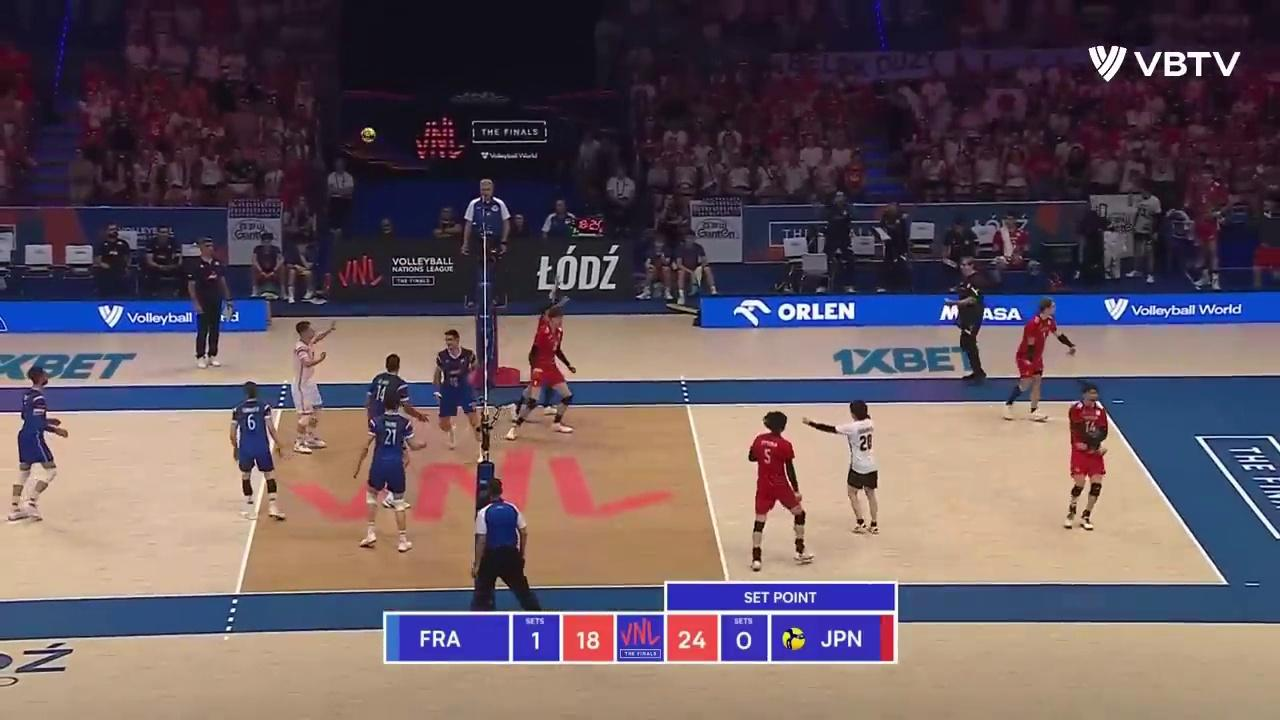ball: (360, 129, 373, 142)
